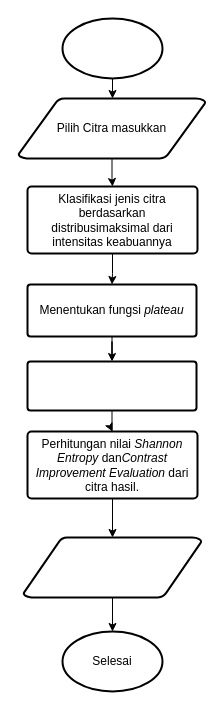
The diagram is 223 pixels wide and 709 high, and some of its shapes have lost their labels. Here are the shapes that lost their labels. From the top down, the centre of each, then its label:
the point at 112,48: Mulai
the point at 111,385: Lakukan Clipping dan ekualisasi histogram
the point at 112,567: Citra Hasil dan nilai Contrast & Entropy -nya
